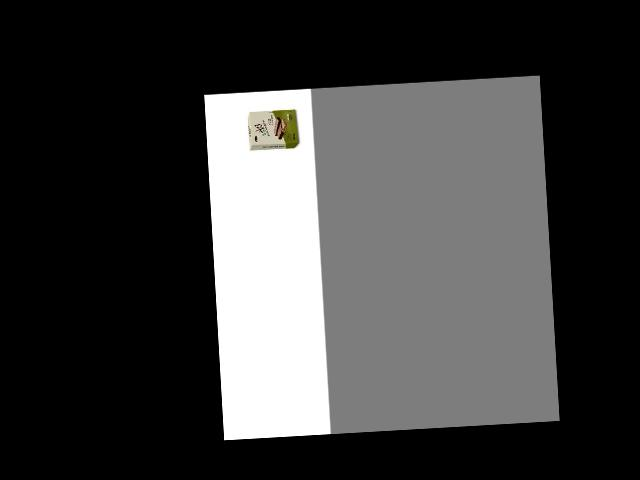chocolate: (246, 108, 300, 153)
